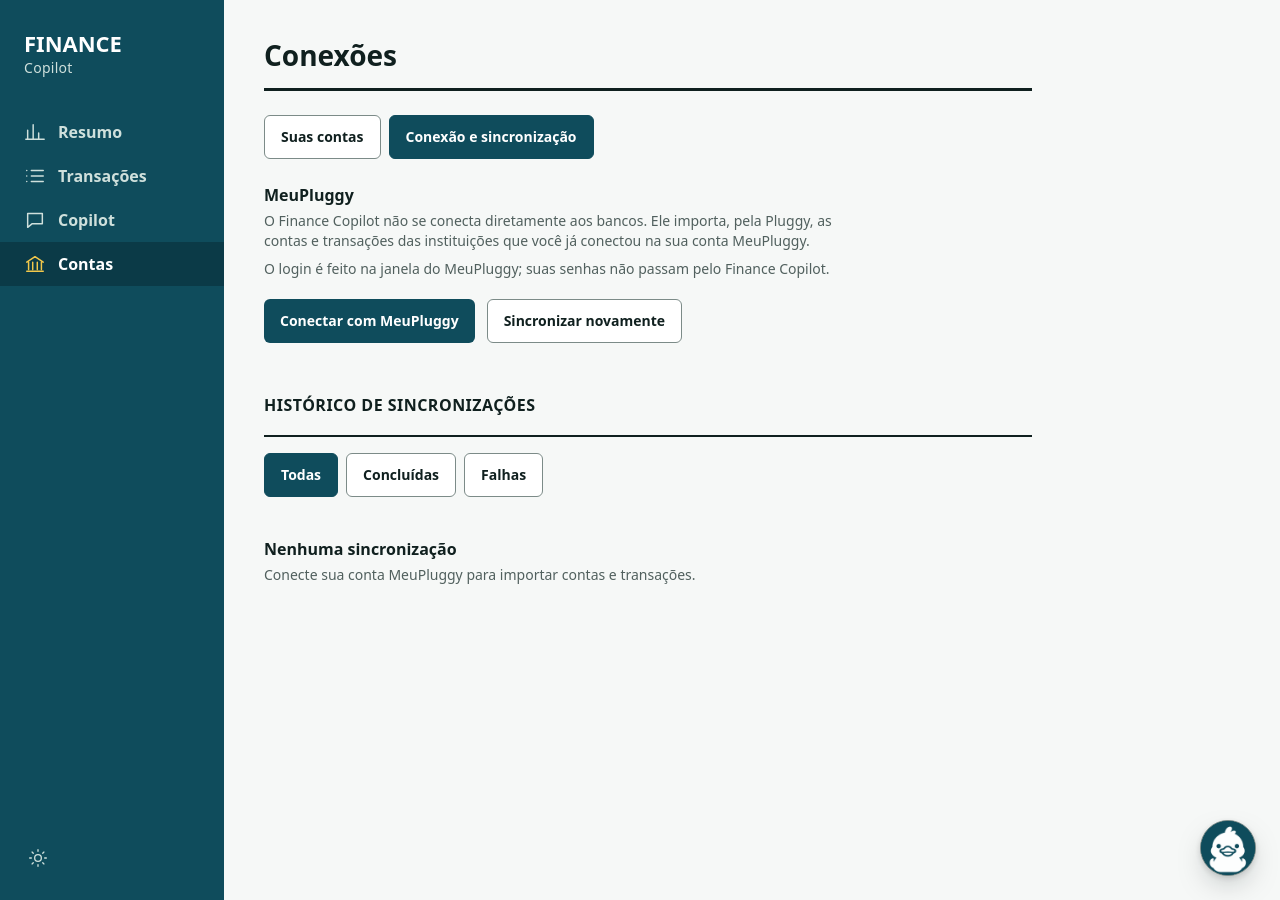
Test: CopilotWidget › opens on the duck and closes from the header, the launcher and Escape
This screenshot has width=1280, height=900.
Click the button named "Abrir conversa com o Finance Copilot" at [1228, 848], box [1200,820,1256,876]
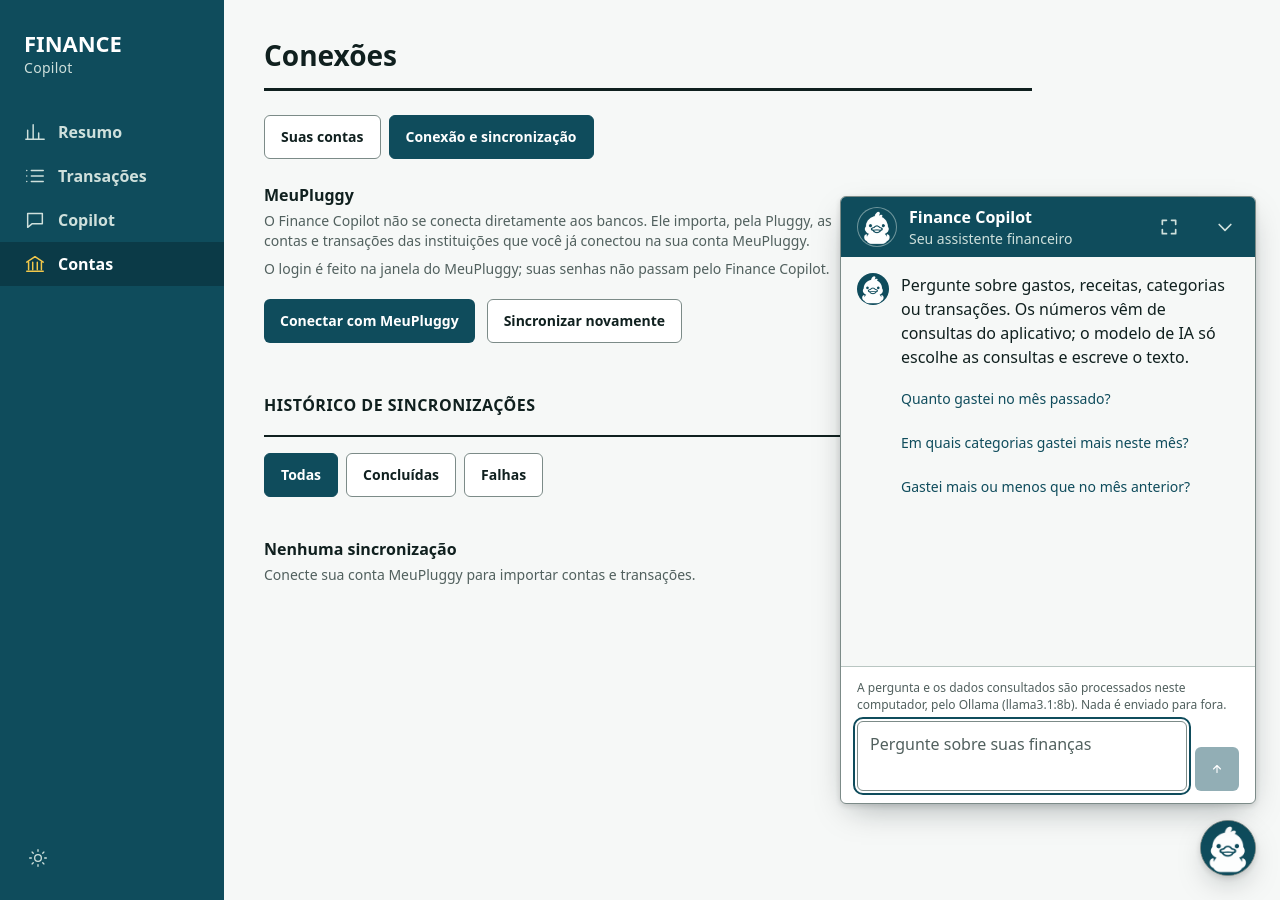
expect the text "Seu assistente financeiro" is shown: met, box [909,229,1072,248]
expect the text "Nada é enviado para fora" is shown: met, box [857,679,1226,713]
Click the button named "Recolher conversa" at [1225, 227], box [1203,205,1247,249]
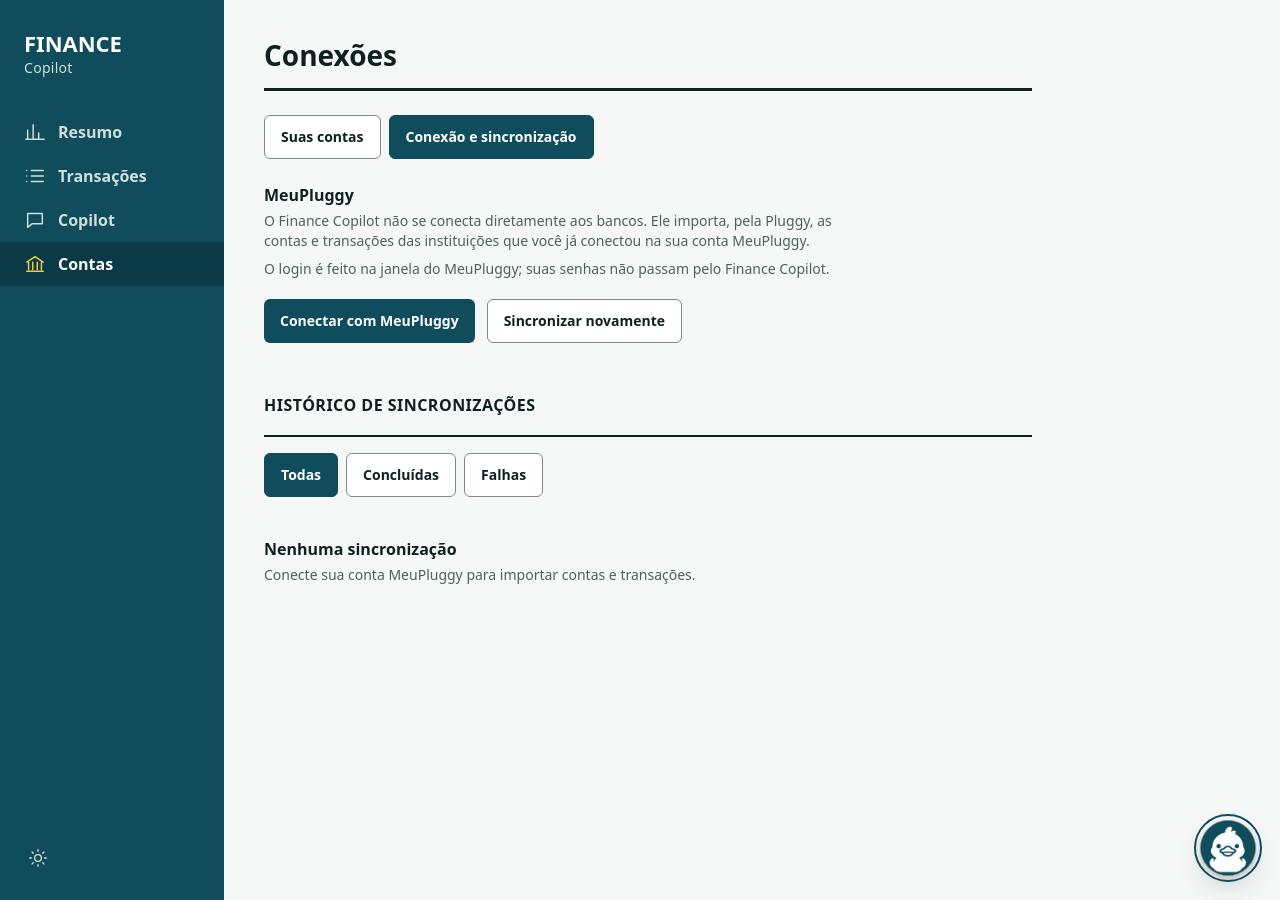
expect the dialog is gone: met
Click the button named "Abrir conversa com o Finance Copilot" at [1228, 848], box [1200,820,1256,876]
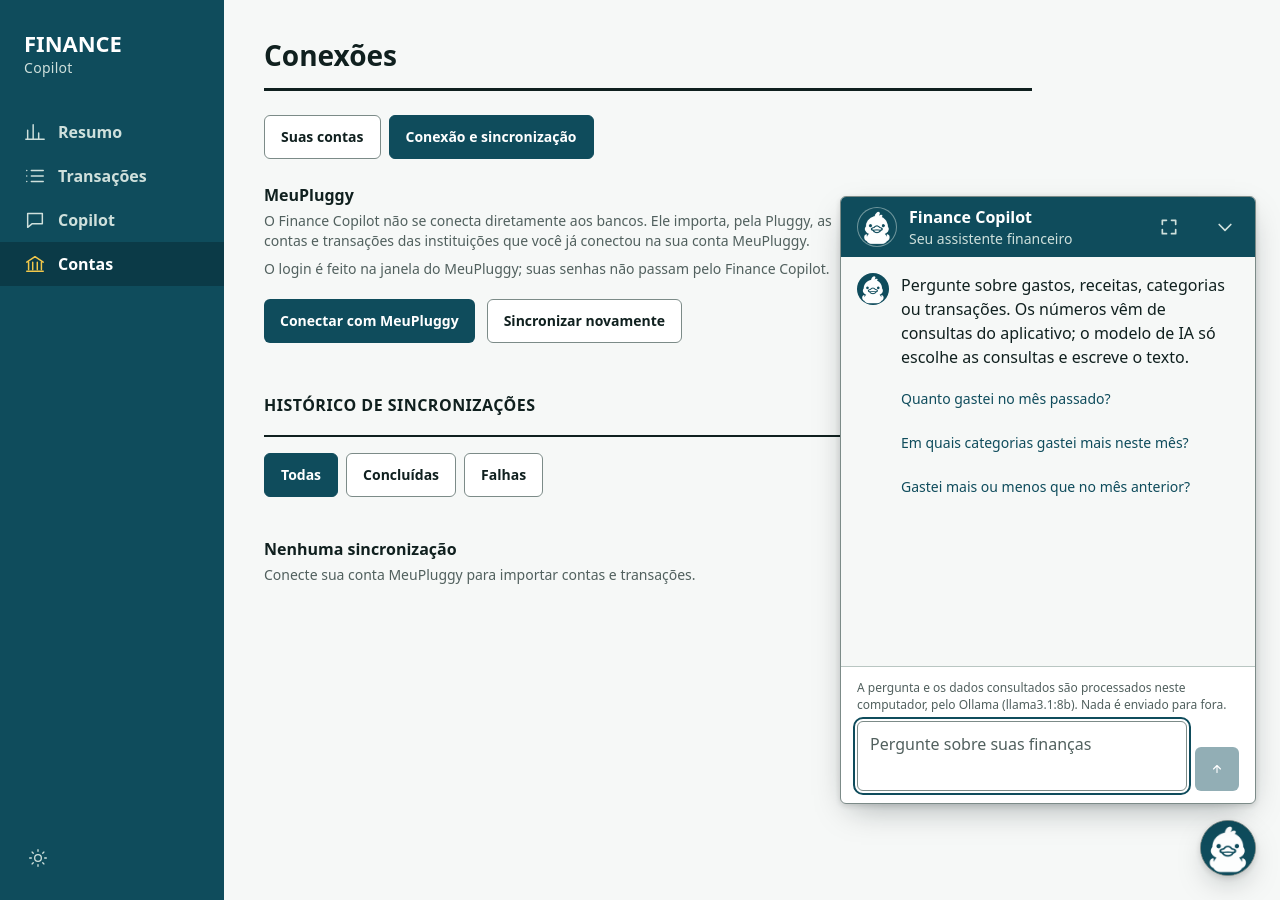
Click the button named "Recolher conversa com o Finance Copilot" at [1228, 848], box [1200,820,1256,876]
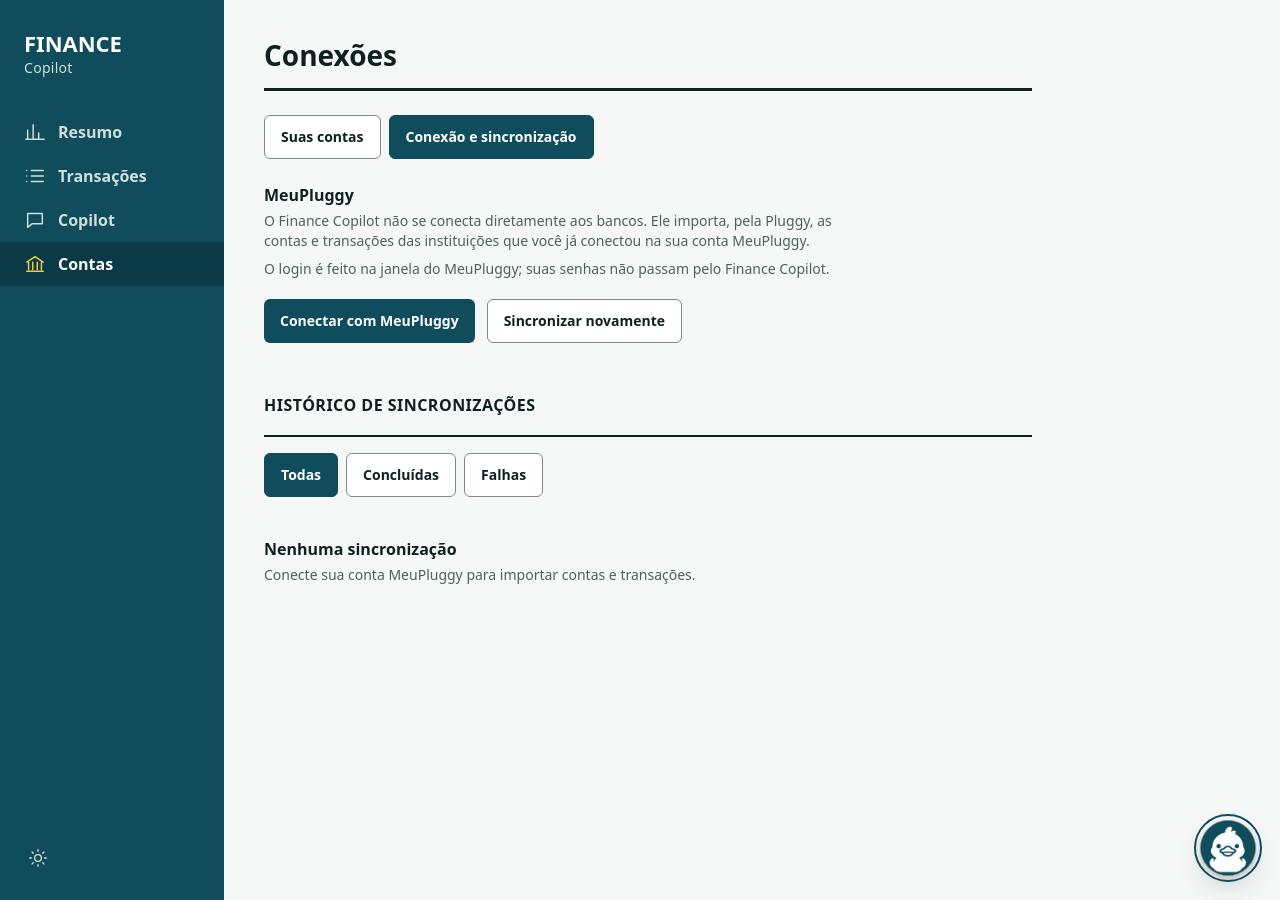
expect the dialog is gone: met
Click the button named "Abrir conversa com o Finance Copilot" at [1228, 848], box [1200,820,1256,876]
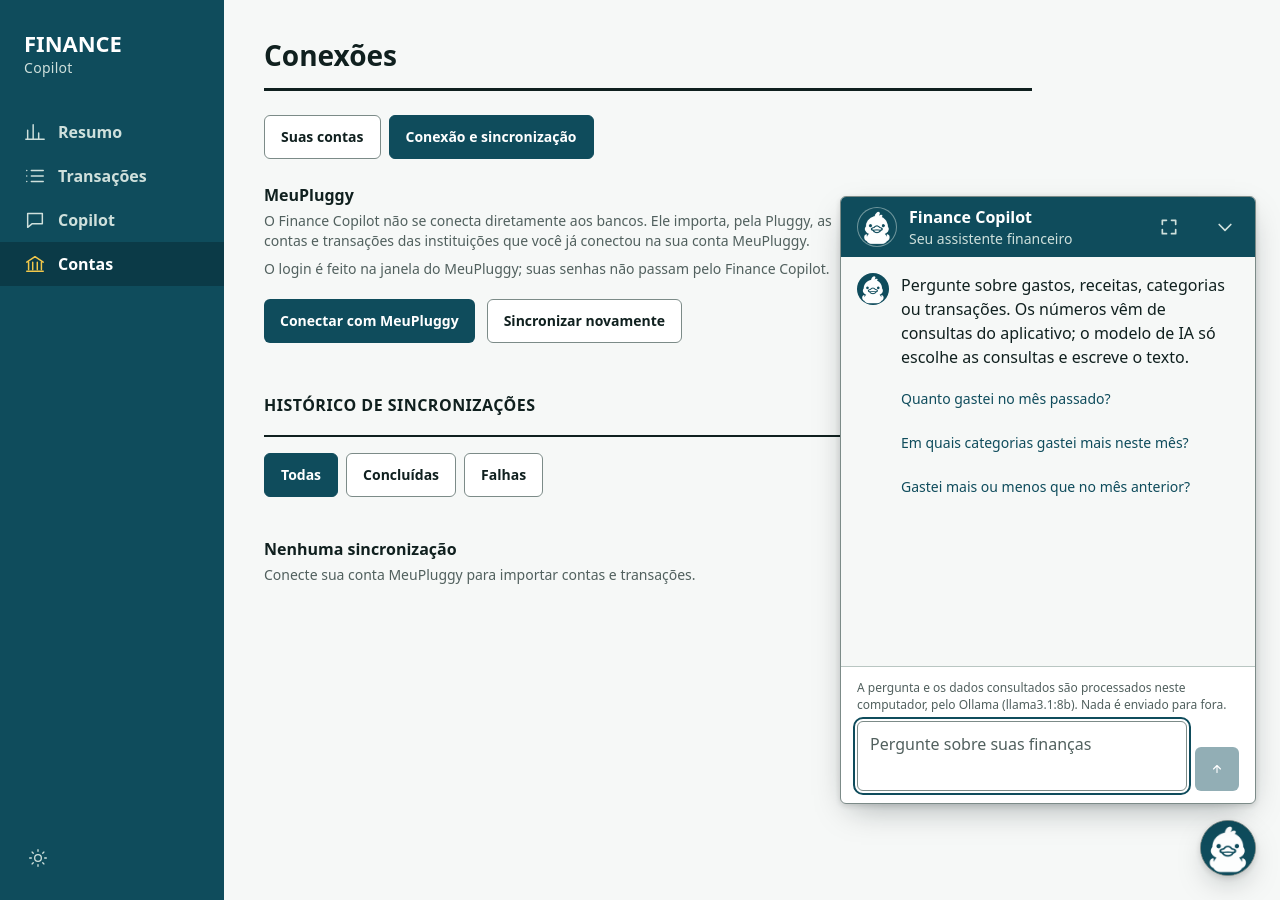
Press Escape
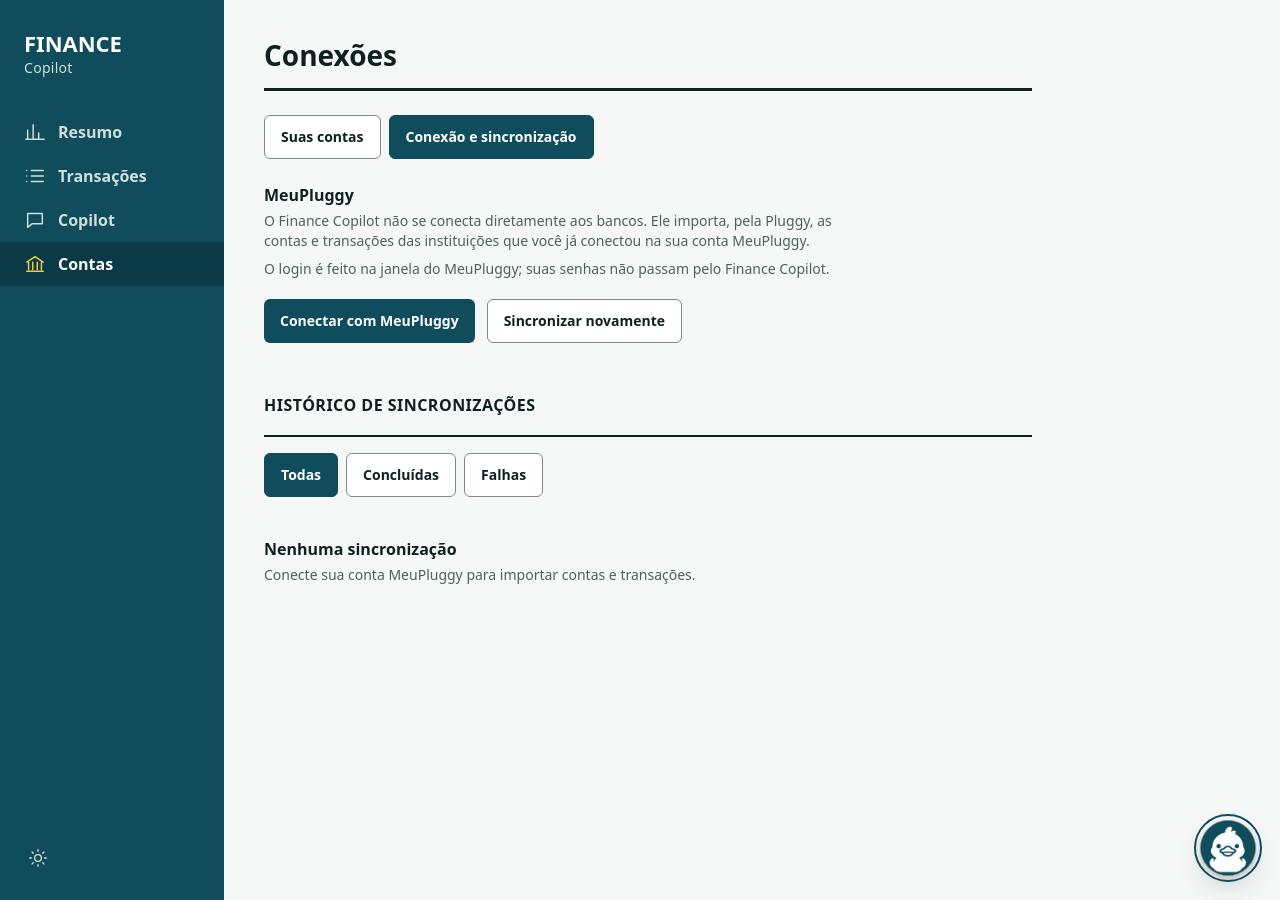
expect the dialog is gone: met
